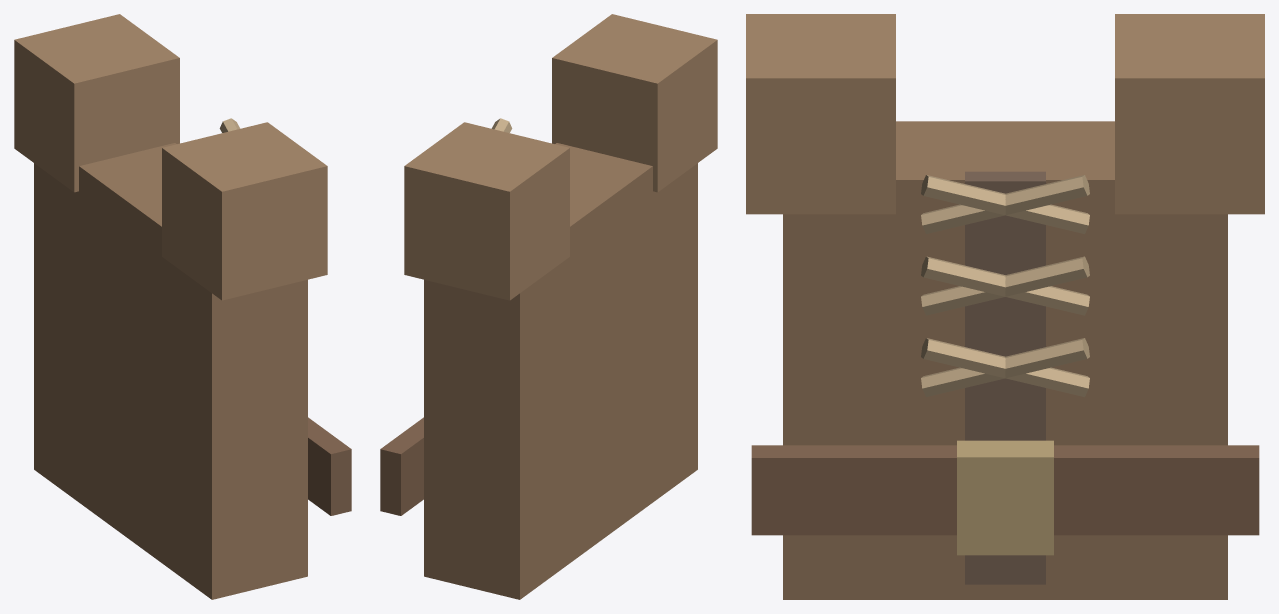
The model's file is leather-vest.glb.
3 renders of one model, left to right at view 1: azimuth 30°, elevation 25°; view 2: azimuth 150°, elevation 25°; view 3: azimuth 270°, elevation 25°, orthographic. The views are drawn at different scales.
Visible parts, largest first — view 1: leather-vest-00, leather-vest-02, leather-vest-01, leather-vest-04; view 2: leather-vest-00, leather-vest-01, leather-vest-02, leather-vest-04; view 3: leather-vest-00, leather-vest-04, leather-vest-01, leather-vest-02, leather-vest-03, leather-vest-05, leather-vest-07, leather-vest-08, leather-vest-09, leather-vest-06, leather-vest-10, leather-vest-11.
Boxes of the visible parts, left/top/right/bottom form: leather-vest-00: left=34, top=143, right=307, bottom=599; leather-vest-02: left=162, top=122, right=327, bottom=300; leather-vest-01: left=14, top=14, right=179, bottom=192; leather-vest-04: left=308, top=417, right=351, bottom=515; leather-vest-00: left=424, top=143, right=697, bottom=599; leather-vest-01: left=404, top=122, right=569, bottom=300; leather-vest-02: left=552, top=14, right=717, bottom=192; leather-vest-04: left=380, top=417, right=423, bottom=515; leather-vest-00: left=783, top=121, right=1227, bottom=599; leather-vest-04: left=751, top=445, right=1259, bottom=535; leather-vest-01: left=1115, top=14, right=1264, bottom=214; leather-vest-02: left=746, top=14, right=895, bottom=214; leather-vest-03: left=965, top=171, right=1045, bottom=584; leather-vest-05: left=957, top=440, right=1053, bottom=555; leather-vest-07: left=921, top=338, right=1089, bottom=397; leather-vest-08: left=921, top=256, right=1089, bottom=315; leather-vest-09: left=921, top=256, right=1089, bottom=315; leather-vest-06: left=921, top=338, right=1089, bottom=397; leather-vest-10: left=921, top=175, right=1089, bottom=233; leather-vest-11: left=921, top=175, right=1089, bottom=233.
Size of the model in its own units: 0.0945 by 0.251 by 0.225.
